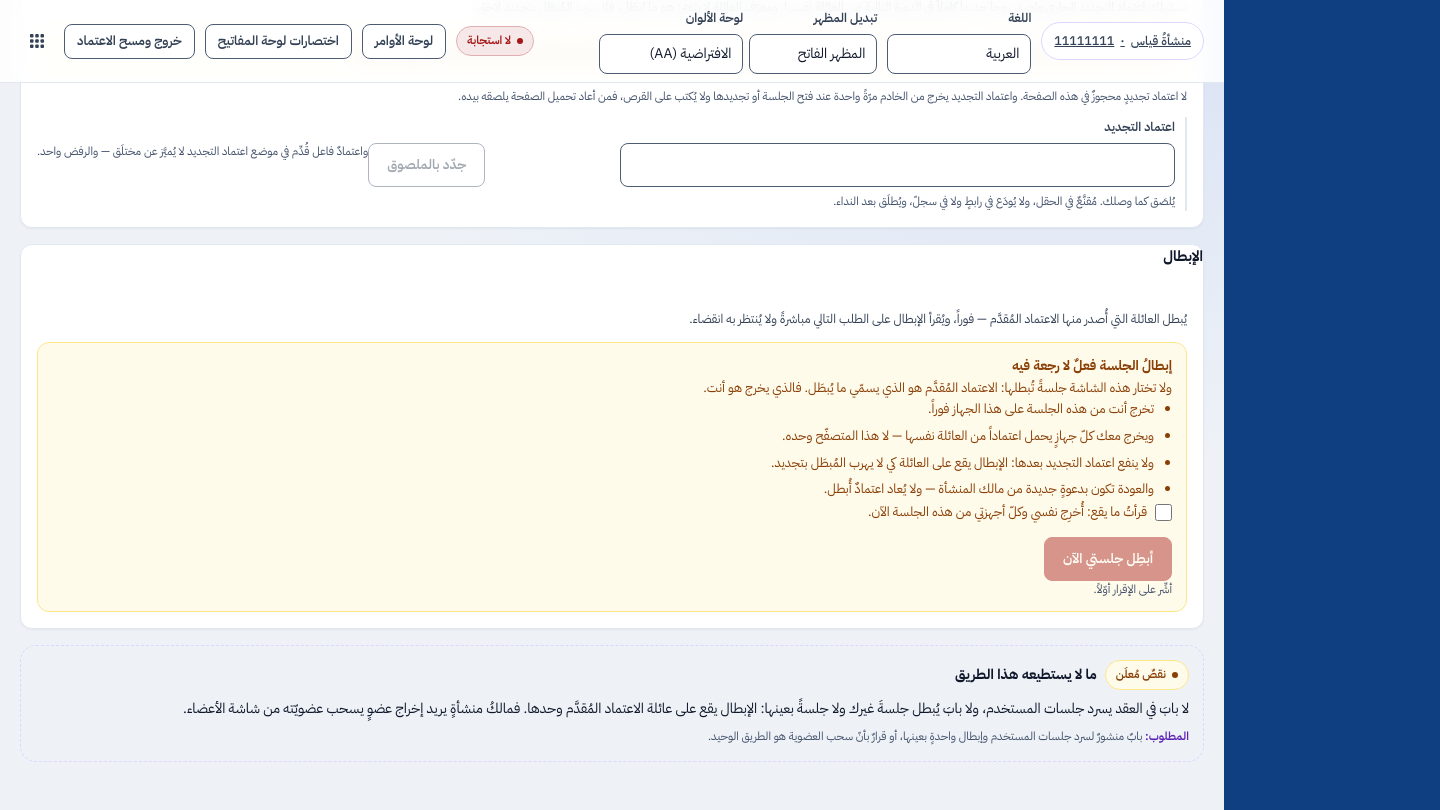
Test case: إبطال الجلسة › ويُفتح بعد الإقرار — والإقرار نصُّه هو الأثر لا «هل أنت متأكّد؟»
(page scrolled)
Click the checkbox with test id "admin-session-revoke-confirm-ack". click: (1164, 512)
box: x1=1155 y1=504 x2=1172 y2=521
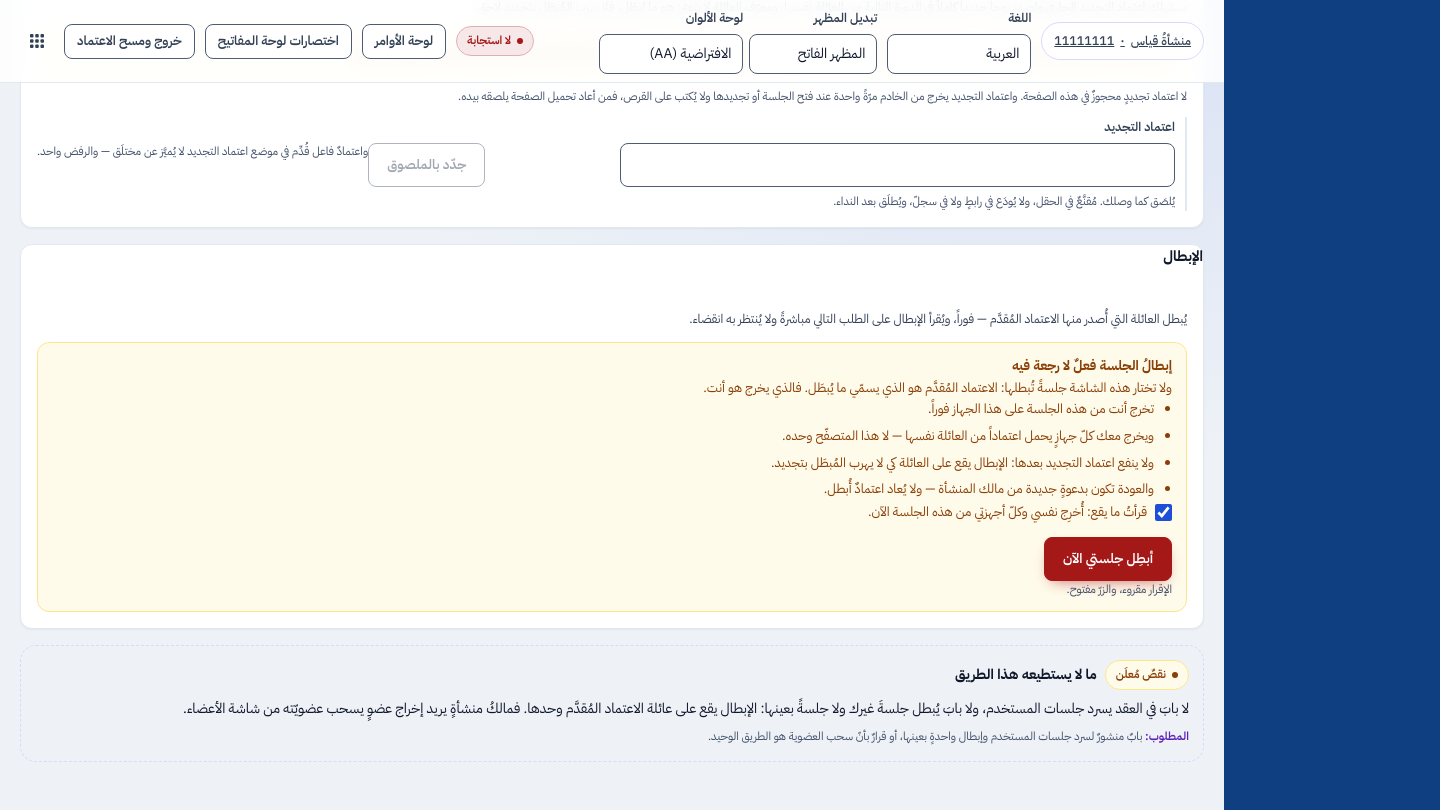
Expected: the button with test id "admin-session-revoke-confirm-go" is enabled, x1=1044 y1=538 x2=1172 y2=581
